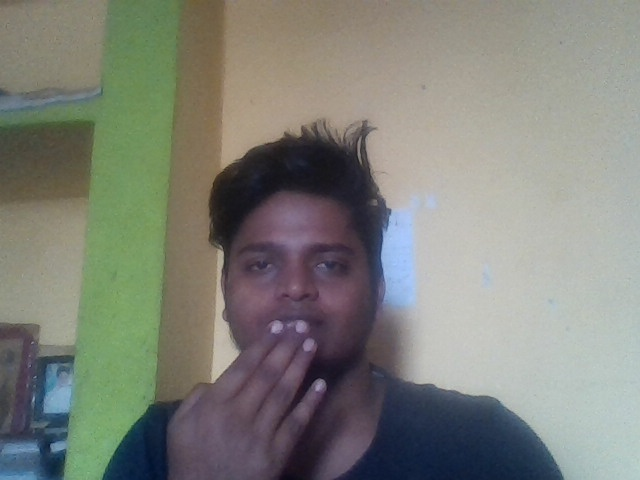thanks: (97, 307, 401, 480)
